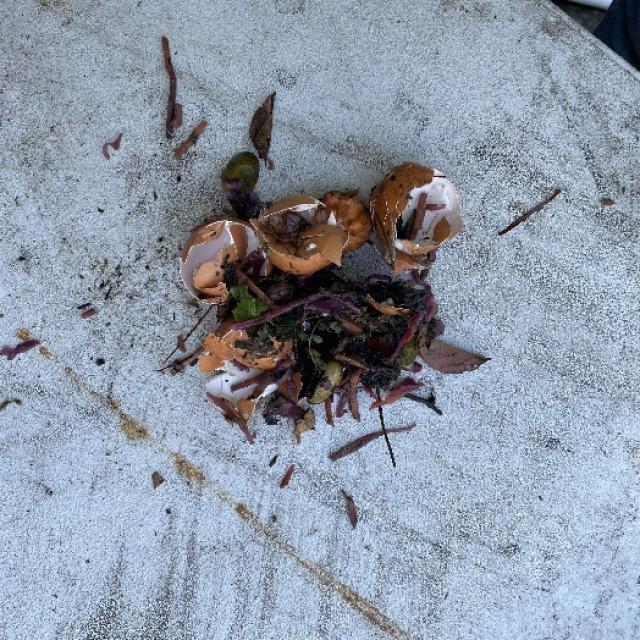organic: (160, 38, 272, 179), (334, 276, 439, 385), (368, 160, 463, 270), (193, 260, 227, 292)
